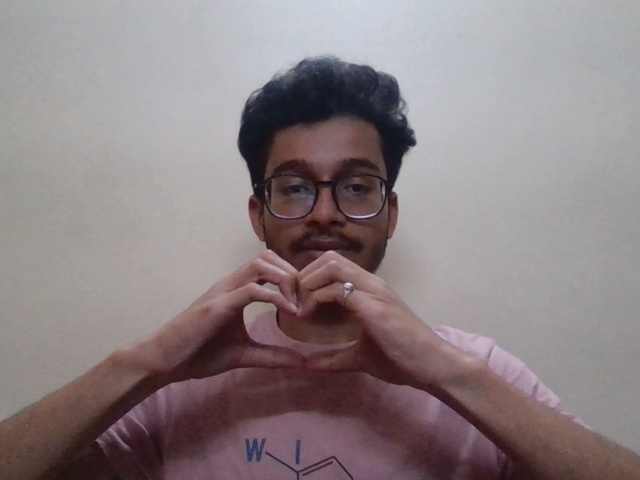silent-voice: (180, 247, 435, 404)
